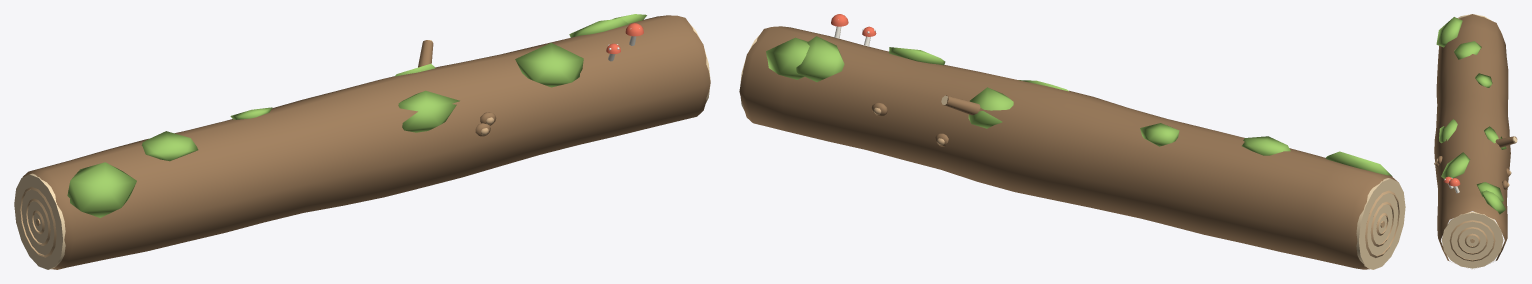
Rendered from log_mid.glb.
The picture shows the model from 3 angles, left to right: view 1: azimuth 30°, elevation 25°; view 2: azimuth 150°, elevation 25°; view 3: azimuth 270°, elevation 25°; orthographic projection. The views are drawn at different scales.
Visible parts, largest first — view 1: log_mid; view 2: log_mid; view 3: log_mid.
Boxes of the visible parts, x1,y1,x2,y2 form: log_mid: [14, 14, 710, 269]; log_mid: [739, 14, 1405, 269]; log_mid: [1434, 14, 1517, 268].
Bounding box in the file's own units: 4.01 × 0.7183 × 0.7046.
